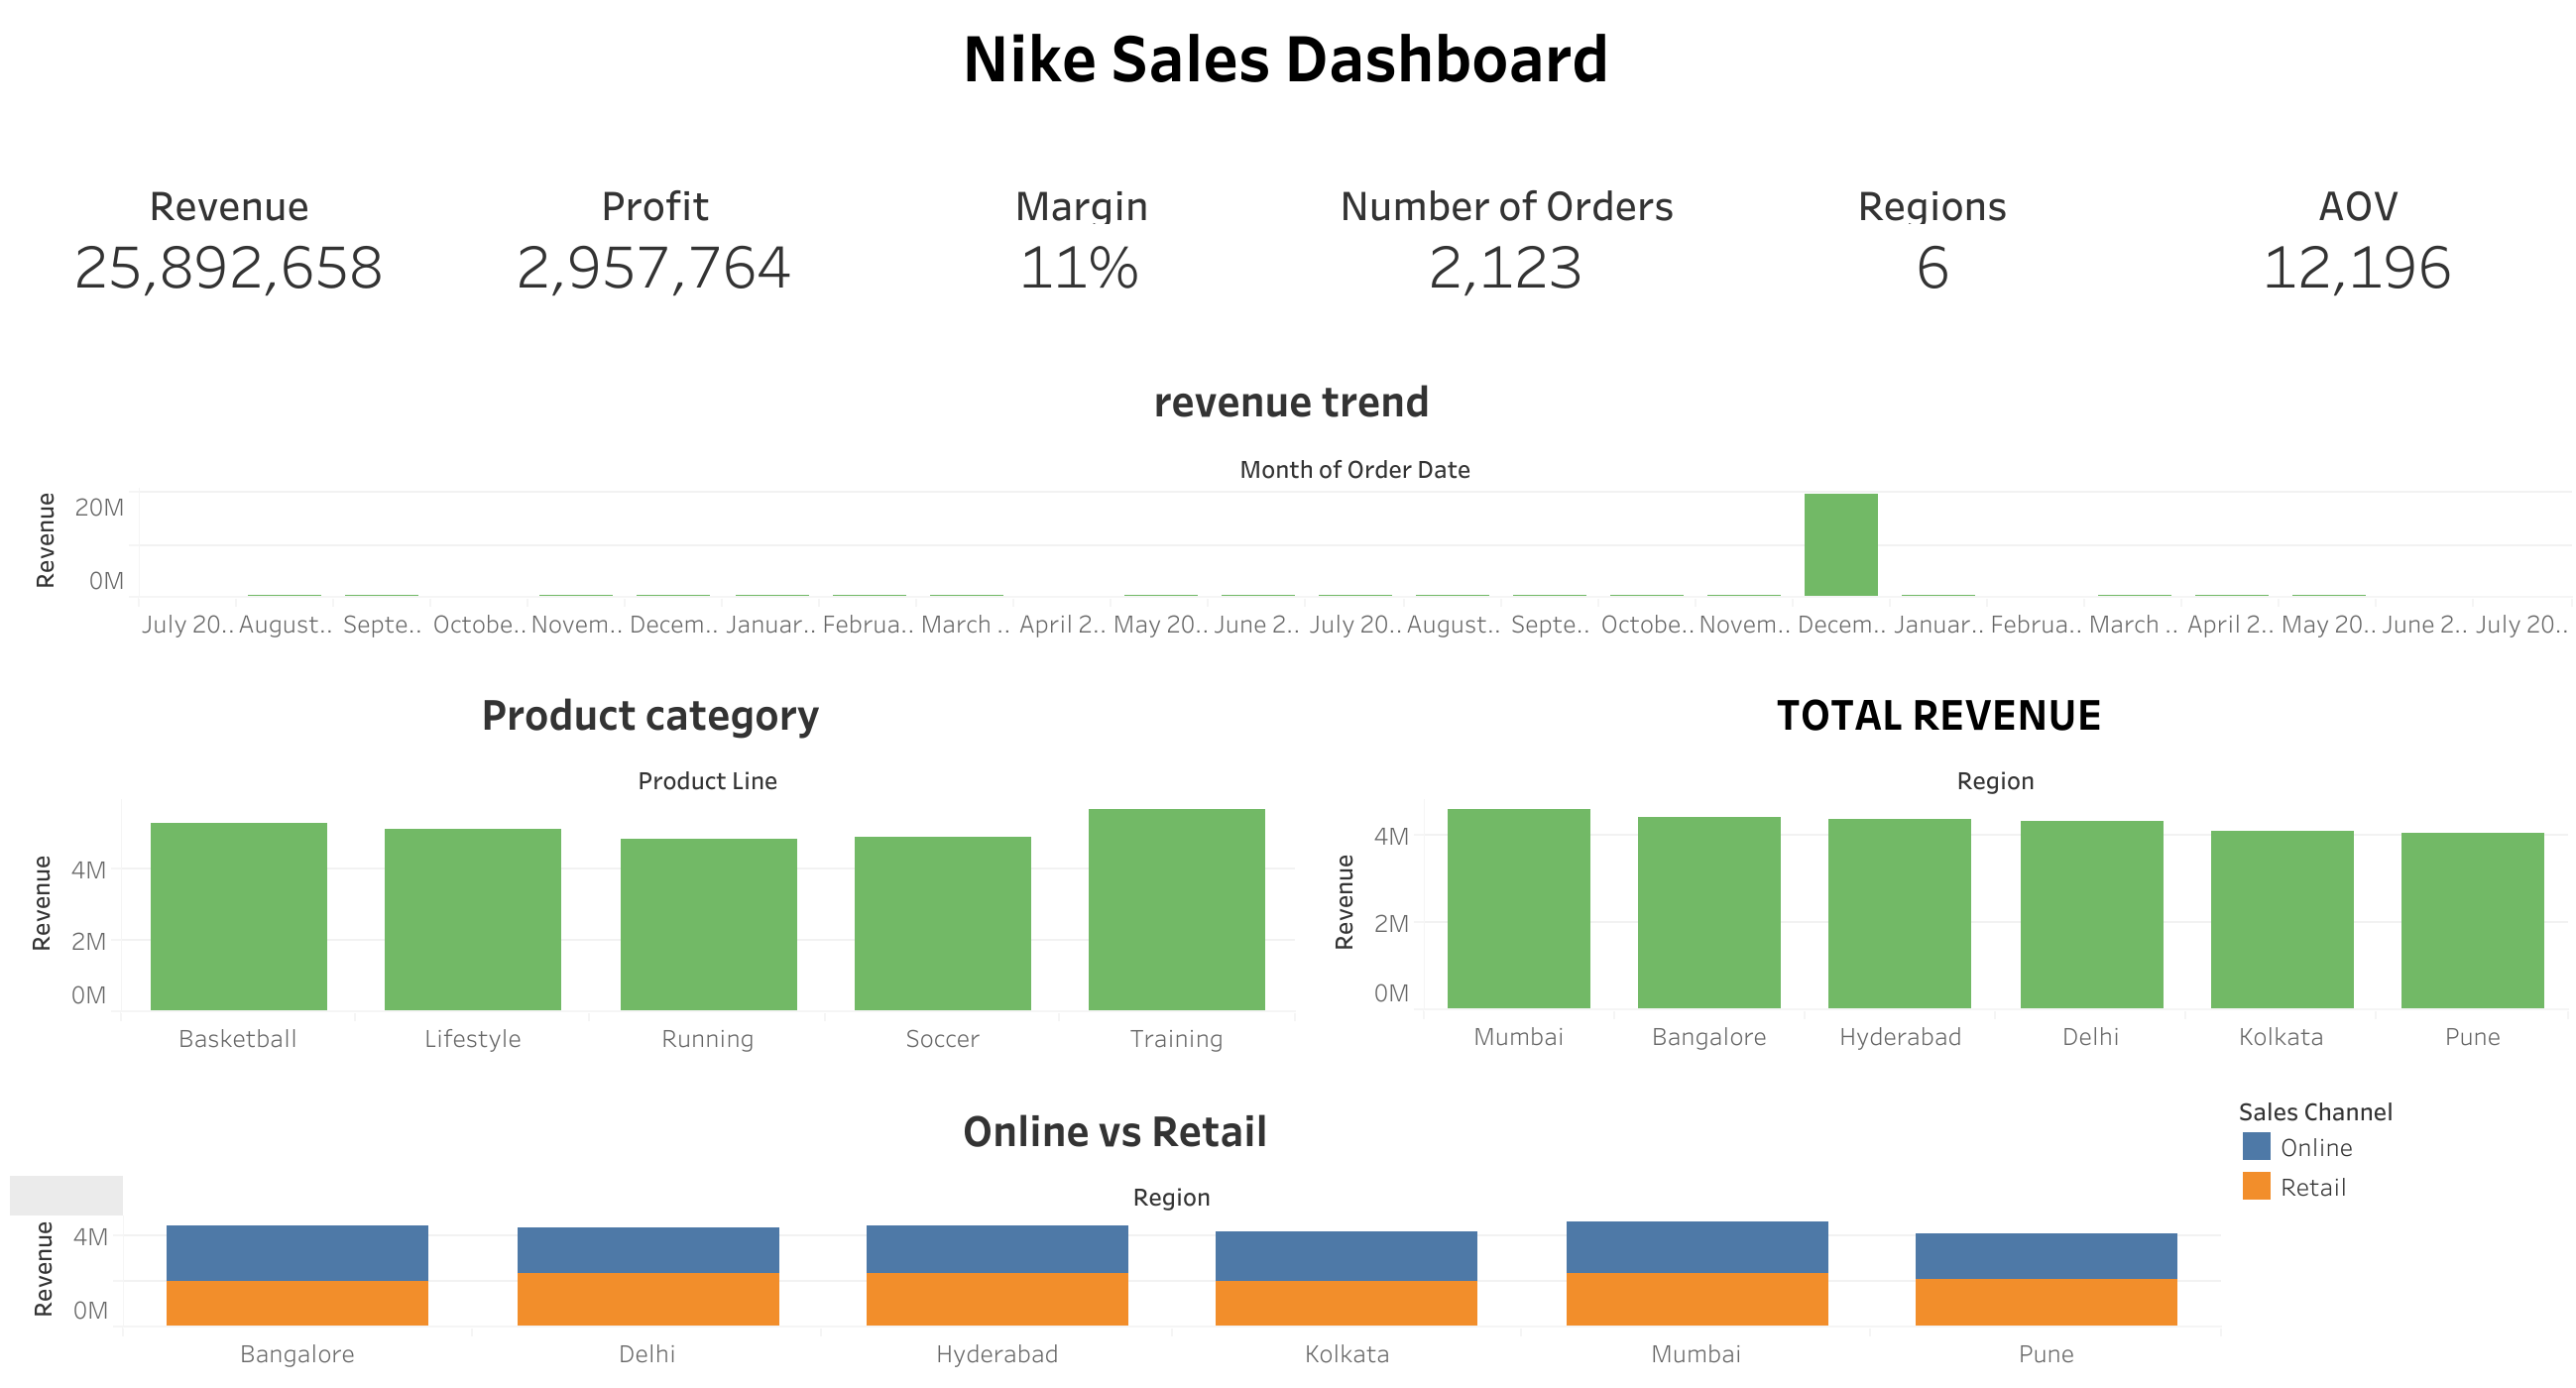

The page's visual inventory and layout, read from the dashboard file:
{"tool":"tableau","page":{"name":"Dashboard 1","canvas":[1000,1000],"units":"permille","ordinal":0},"visuals":[{"type":"text","box":[0,0,997.7,79.7]},{"type":"worksheet","title":"Kpi","mark":"Automatic","box":[3.3,105,997.5,105.9]},{"type":"worksheet","title":"revenue trend","mark":"Bar","rows":["Revenue"],"cols":["Order_Date"],"box":[1.5,251.8,999.2,218.8]},{"type":"worksheet","title":"Product category","mark":"Automatic","rows":["Revenue"],"cols":["Product_Line"],"box":[0,478,505.4,287.3]},{"type":"worksheet","title":"regional performance","mark":"Automatic","rows":["Revenue"],"cols":["Region"],"box":[505.4,478,493.9,284.8]},{"type":"worksheet","title":"Online vs Retail","mark":"Automatic","rows":["Revenue"],"cols":["Region"],"box":[0.8,777.1,872.6,214.2]},{"type":"legend","title":"Online vs Retail","param":"[federated.15hvmmj0h5k1ui1fz9jfd1ws4arq].[none:Sales_Channel:nk]","box":[873.4,777.1,130.5,214.2]}]}

Visuals, with their boxes on the dashboard's canvas, which has no fixed pixel size, in thousandths of its width and height (x1, y1, x2, y2). These are canvas units, not pixel positions in the 2576x1388 screenshot, which may show the page scaled, cropped or inside an application window:
text: 0:0:998:80
"Kpi" worksheet: 3:105:1001:211
"revenue trend" worksheet (Bar marks): 2:252:1001:471
"Product category" worksheet: 0:478:505:765
"regional performance" worksheet: 505:478:999:763
"Online vs Retail" worksheet: 1:777:873:991
"Online vs Retail" legend: 873:777:1004:991
